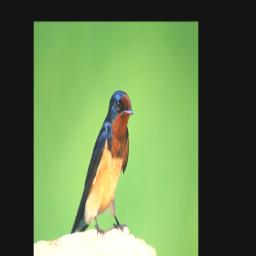Swallow: (70, 89, 134, 239)
